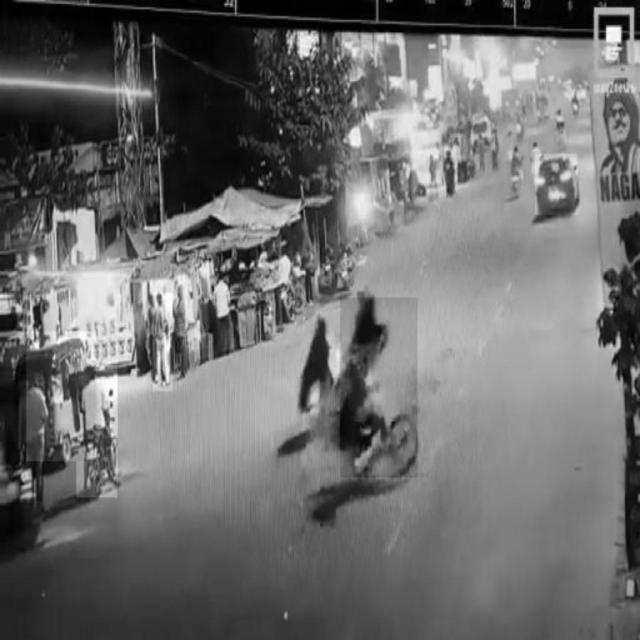accident: (341, 298, 418, 478)
person: (22, 372, 46, 502), (153, 293, 173, 391)
vehicle: (26, 332, 96, 462), (76, 365, 117, 497), (303, 306, 330, 426), (534, 154, 578, 215)
